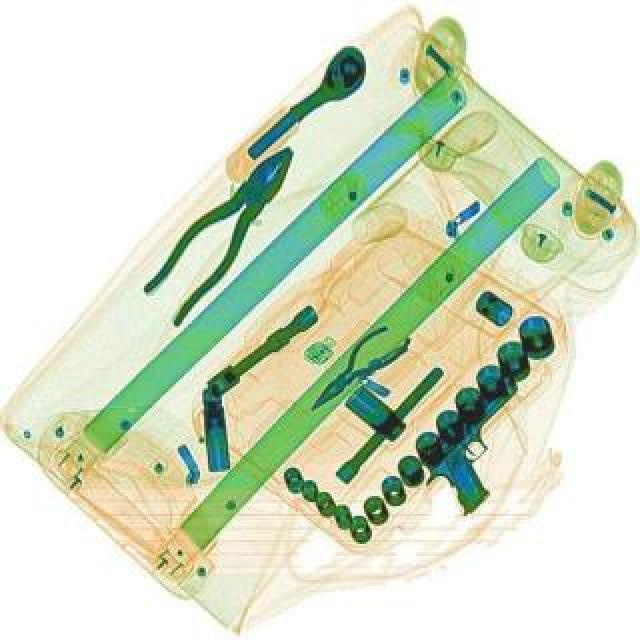gun: (400, 366, 562, 518)
wrench: (128, 130, 320, 330), (292, 320, 408, 422)
